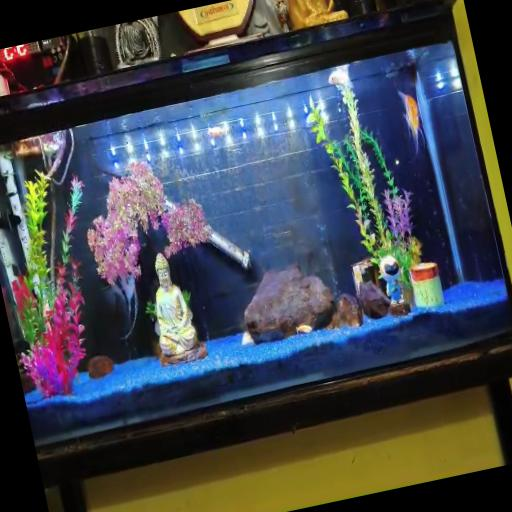Fish: (111, 276, 138, 340), (398, 92, 424, 154), (327, 65, 351, 87), (207, 126, 224, 137), (241, 331, 252, 345), (296, 325, 311, 333)
